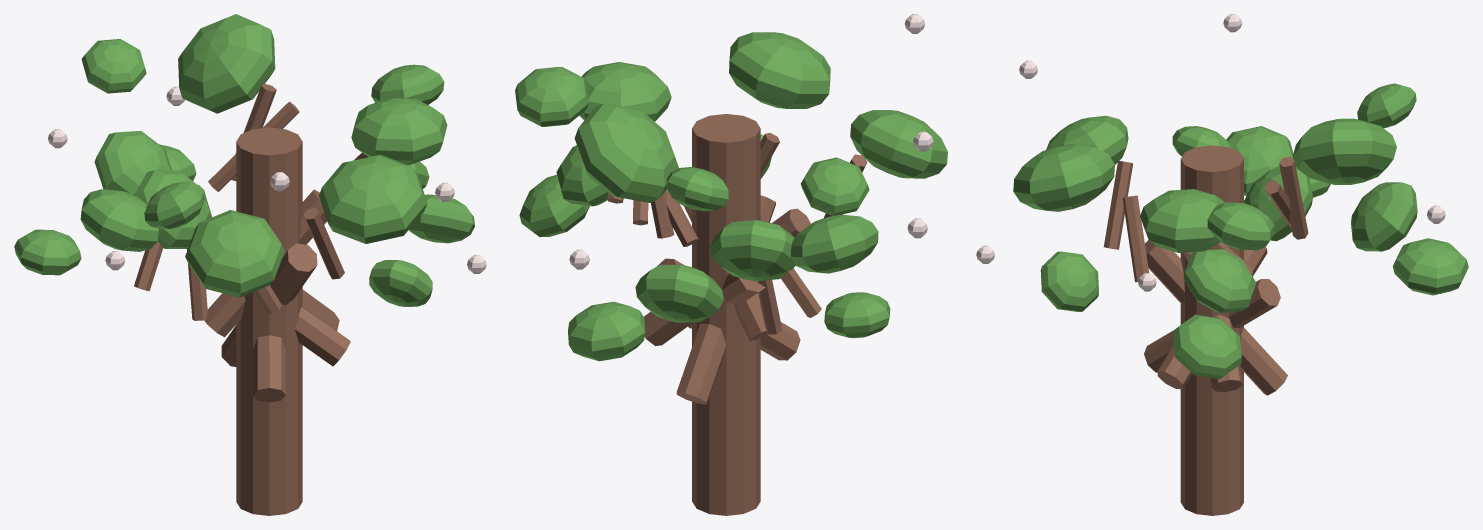
The model's file is apple_growing.glb.
3 renders of one model, left to right at view 1: azimuth 30°, elevation 25°; view 2: azimuth 150°, elevation 25°; view 3: azimuth 270°, elevation 25°, orthographic. The views are drawn at different scales.
Visible parts, largest first — view 1: AppleGrowing_trunk, AppleGrowing_leaf_cluster_2, AppleGrowing_leaf_cluster_5, AppleGrowing_leaf_cluster_4, AppleGrowing_leaf_cluster_1, AppleGrowing_leaf_cluster_3, AppleGrowing_leaf_cluster_13, AppleGrowing_leaf_cluster_8, AppleGrowing_leaf_cluster_7, AppleGrowing_leaf_cluster_11, AppleGrowing_branch_1, AppleGrowing_leaf_cluster_9 (+13 smaller); view 2: AppleGrowing_trunk, AppleGrowing_leaf_cluster_2, AppleGrowing_leaf_cluster_5, AppleGrowing_leaf_cluster_4, AppleGrowing_leaf_cluster_15, AppleGrowing_leaf_cluster_3, AppleGrowing_leaf_cluster_13, AppleGrowing_leaf_cluster_14, AppleGrowing_leaf_cluster_1, AppleGrowing_leaf_cluster_10, AppleGrowing_leaf_cluster_12, AppleGrowing_branch_1 (+13 smaller); view 3: AppleGrowing_trunk, AppleGrowing_leaf_cluster_2, AppleGrowing_leaf_cluster_5, AppleGrowing_leaf_cluster_1, AppleGrowing_leaf_cluster_13, AppleGrowing_leaf_cluster_6, AppleGrowing_leaf_cluster_9, AppleGrowing_leaf_cluster_14, AppleGrowing_branch_1, AppleGrowing_leaf_cluster_11, AppleGrowing_leaf_cluster_10, AppleGrowing_leaf_cluster_3 (+11 smaller).
Boxes of the visible parts, x1,y1,x2,y2 form: AppleGrowing_trunk: (236,127,302,515); AppleGrowing_leaf_cluster_2: (178,14,275,113); AppleGrowing_leaf_cluster_5: (319,154,427,243); AppleGrowing_leaf_cluster_4: (185,210,284,297); AppleGrowing_leaf_cluster_1: (351,98,447,164); AppleGrowing_leaf_cluster_3: (80,189,159,251); AppleGrowing_leaf_cluster_13: (94,131,171,194); AppleGrowing_leaf_cluster_8: (81,39,146,93); AppleGrowing_leaf_cluster_7: (14,229,81,275); AppleGrowing_leaf_cluster_11: (369,260,432,306); AppleGrowing_branch_1: (221,243,317,366); AppleGrowing_leaf_cluster_9: (409,194,474,243); AppleGrowing_trunk: (692,114,760,515); AppleGrowing_leaf_cluster_2: (574,103,678,202); AppleGrowing_leaf_cluster_5: (729,32,830,108); AppleGrowing_leaf_cluster_4: (850,110,947,178); AppleGrowing_leaf_cluster_15: (709,220,795,281); AppleGrowing_leaf_cluster_3: (790,214,878,273); AppleGrowing_leaf_cluster_13: (635,264,723,322); AppleGrowing_leaf_cluster_14: (568,301,645,361); AppleGrowing_leaf_cluster_1: (579,62,671,121); AppleGrowing_leaf_cluster_10: (515,66,588,126); AppleGrowing_leaf_cluster_12: (800,157,869,215); AppleGrowing_branch_1: (676,195,775,404); AppleGrowing_trunk: (1180,145,1243,515); AppleGrowing_leaf_cluster_2: (1292,118,1396,185); AppleGrowing_leaf_cluster_5: (1013,144,1114,211); AppleGrowing_leaf_cluster_1: (1140,189,1224,252); AppleGrowing_leaf_cluster_13: (1351,182,1417,251); AppleGrowing_leaf_cluster_6: (1183,249,1255,312); AppleGrowing_leaf_cluster_9: (1173,314,1241,379); AppleGrowing_leaf_cluster_14: (1393,238,1468,295); AppleGrowing_branch_1: (1145,240,1287,395); AppleGrowing_leaf_cluster_11: (1040,251,1098,311); AppleGrowing_leaf_cluster_10: (1207,202,1274,250); AppleGrowing_leaf_cluster_3: (1226,126,1295,195).
Bounding box in the file's own units: 1.42 × 1.4 × 1.56.
